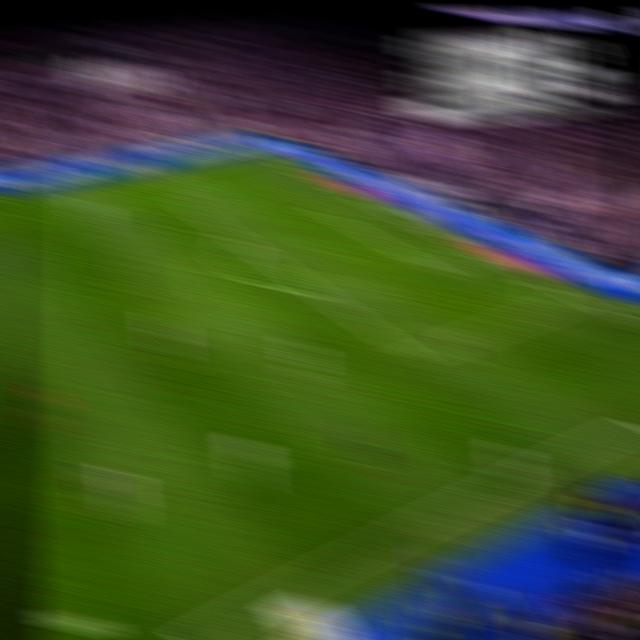bigarea_bottom_inner: (399, 343, 430, 370)
bigarea_top_inner: (176, 196, 204, 214)
bigarea_top_outter: (298, 168, 327, 184)
bottom_arc_area_intersection: (303, 281, 333, 303)
corner: (246, 145, 273, 159)
smallarea_bottom_inner: (422, 259, 451, 279)
smallarea_top_inner: (314, 205, 342, 220)
top_arc_area_intersection: (228, 233, 255, 248)
